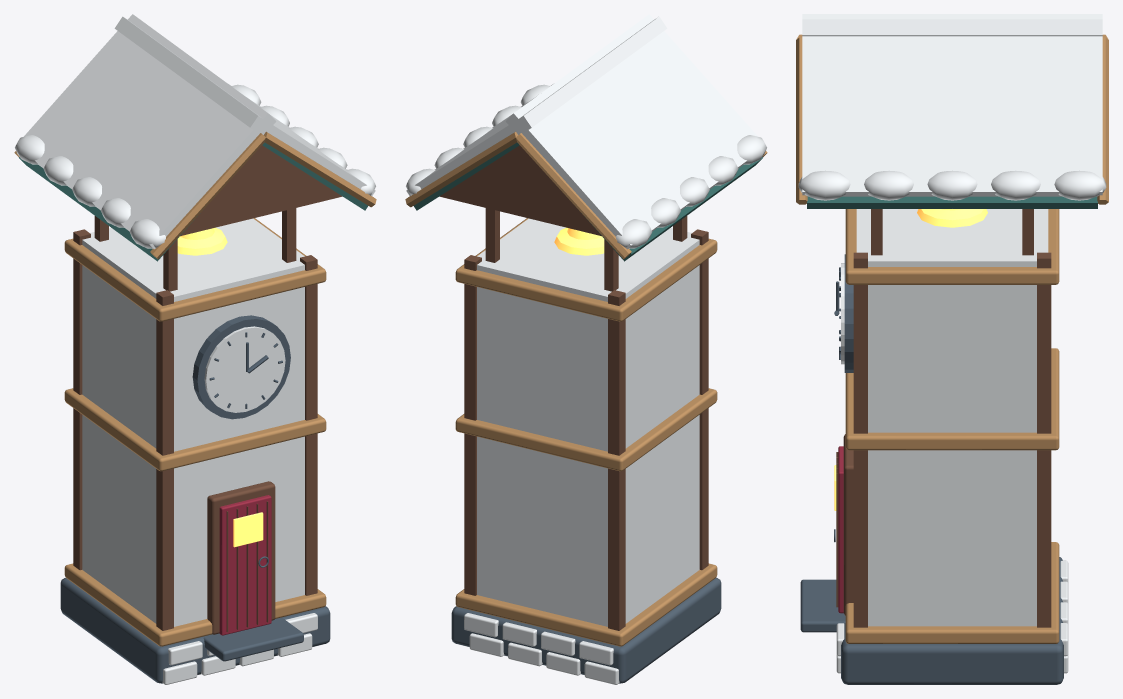
File: alpine-snow-village-village-clock-belfry-a267773c__19778.glb
The picture shows the model from 3 angles, left to right: view 1: azimuth 30°, elevation 25°; view 2: azimuth 150°, elevation 25°; view 3: azimuth 270°, elevation 25°; orthographic projection. The views are drawn at different scales.
Parts seen in each view (by area): view 1: village-clock-belfry-snow, village-clock-belfry-wood, village-clock-belfry-oak, village-clock-belfry-iron, village-clock-belfry-berry, village-clock-belfry-amber, village-clock-belfry-pine; view 2: village-clock-belfry-snow, village-clock-belfry-wood, village-clock-belfry-oak, village-clock-belfry-iron, village-clock-belfry-pine, village-clock-belfry-amber; view 3: village-clock-belfry-snow, village-clock-belfry-oak, village-clock-belfry-wood, village-clock-belfry-iron, village-clock-belfry-pine, village-clock-belfry-amber, village-clock-belfry-berry.
Boxes of the visible parts, x1,y1,x2,y2 form: village-clock-belfry-snow: (15,14,375,684); village-clock-belfry-wood: (73,145,342,634); village-clock-belfry-oak: (14,131,376,646); village-clock-belfry-iron: (60,315,330,683); village-clock-belfry-berry: (219,495,271,635); village-clock-belfry-amber: (177,227,263,547); village-clock-belfry-pine: (19,142,367,261); village-clock-belfry-snow: (406,14,766,684); village-clock-belfry-wood: (439,145,708,630); village-clock-belfry-oak: (405,131,767,646); village-clock-belfry-iron: (451,577,721,683); village-clock-belfry-pine: (414,142,762,261); village-clock-belfry-amber: (554,227,604,255); village-clock-belfry-snow: (798,14,1106,673); village-clock-belfry-oak: (796,34,1108,643); village-clock-belfry-wood: (836,209,1051,627); village-clock-belfry-iron: (800,254,1063,684); village-clock-belfry-pine: (807,196,1097,208); village-clock-belfry-amber: (834,209,987,510); village-clock-belfry-berry: (838,446,843,613).
Bounding box in the file's own units: 3.41 × 7.73 × 3.51.
